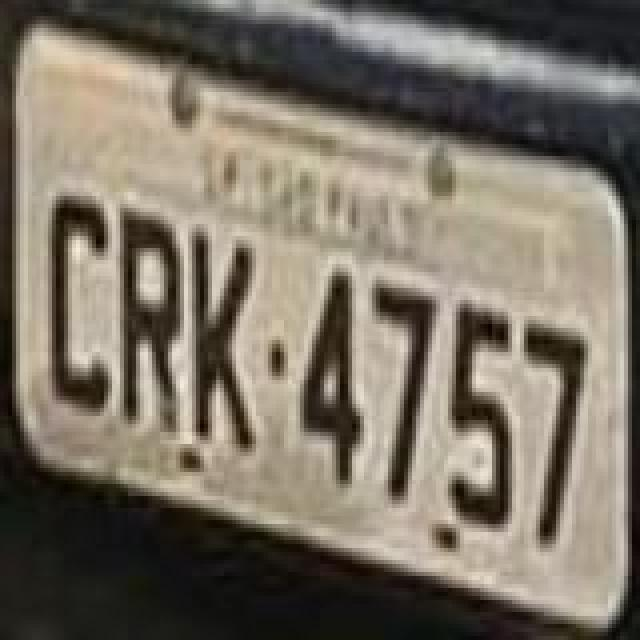4: (300, 266, 364, 486)
5: (446, 300, 514, 532)
7: (522, 316, 590, 548), (370, 282, 438, 502)
C: (48, 192, 112, 416)
K: (192, 224, 256, 456)
R: (120, 208, 184, 432)
